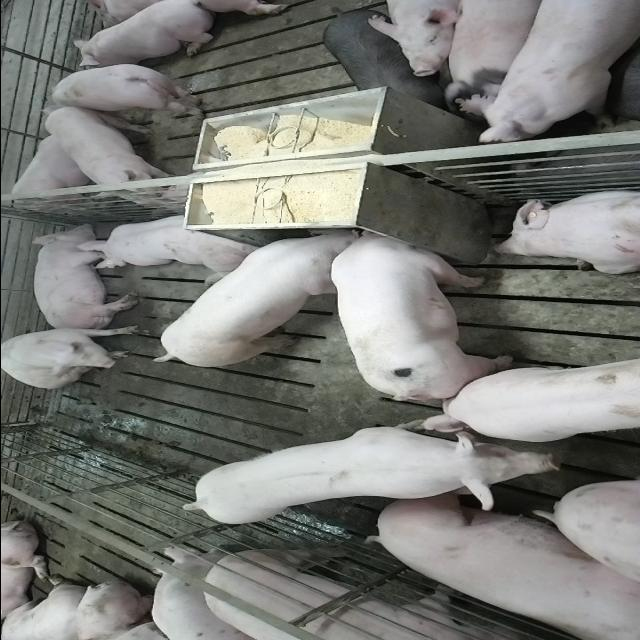Feeding: (328, 220, 512, 397), (144, 230, 359, 372)
Lateral_lying: (26, 224, 138, 332)
Sitting: (1, 326, 142, 388)
Standing: (195, 546, 640, 640), (185, 422, 508, 528), (458, 1, 640, 141), (415, 352, 638, 444), (318, 5, 452, 114), (46, 106, 174, 200), (437, 3, 551, 108), (38, 61, 212, 117), (367, 0, 463, 73)
Sternal_lying: (490, 186, 640, 274), (75, 208, 258, 278), (68, 1, 216, 66), (4, 130, 98, 212)
